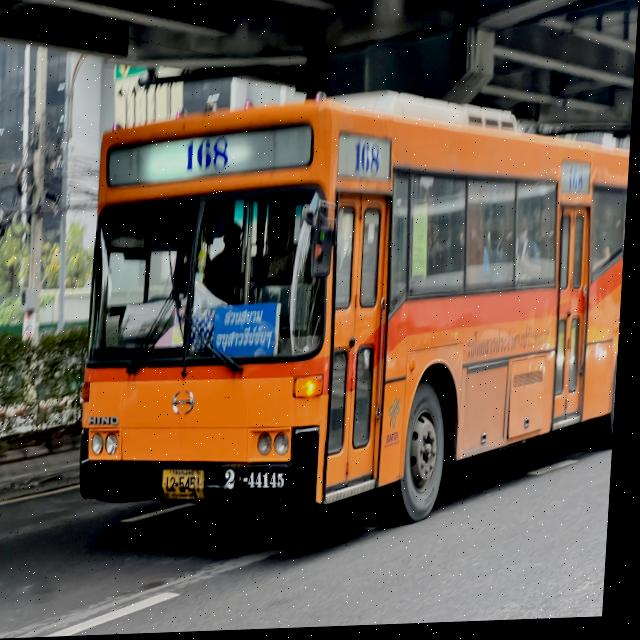BMTA-bus: (78, 90, 635, 537)
Bus-Line-Number: (183, 127, 233, 181), (353, 140, 385, 181)
Destination-Sign-Normal: (215, 304, 285, 360)
